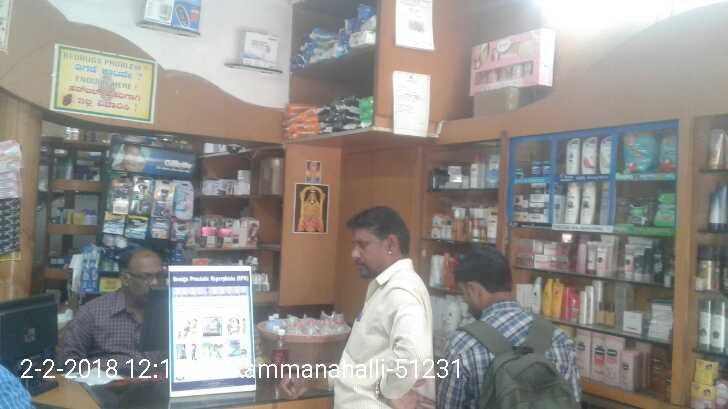beauty: (131, 175, 152, 216), (172, 181, 193, 219), (152, 178, 170, 217), (564, 181, 580, 223), (581, 134, 598, 173), (564, 137, 580, 175), (580, 181, 594, 224), (599, 134, 612, 172), (527, 202, 545, 220), (531, 183, 546, 202), (513, 195, 523, 223)
pharmacy: (622, 133, 654, 171), (652, 190, 676, 229), (658, 131, 676, 171), (627, 203, 650, 225), (530, 160, 542, 176), (542, 161, 550, 176)
